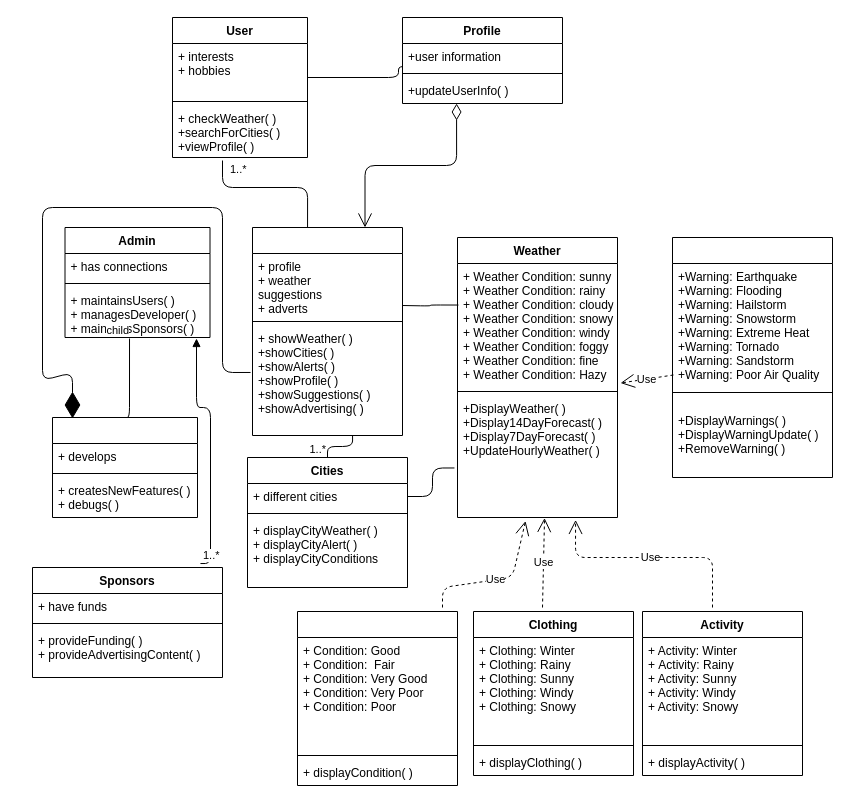
Some shapes in this 850 by 806 pixel diagram are drawn without their labels. Each missing label, with the box of its shape:
Alerts: (672, 236, 832, 478)
Developer: (52, 416, 198, 518)
Interface: (252, 226, 402, 436)
Outdoor Conditions: (296, 610, 458, 786)
